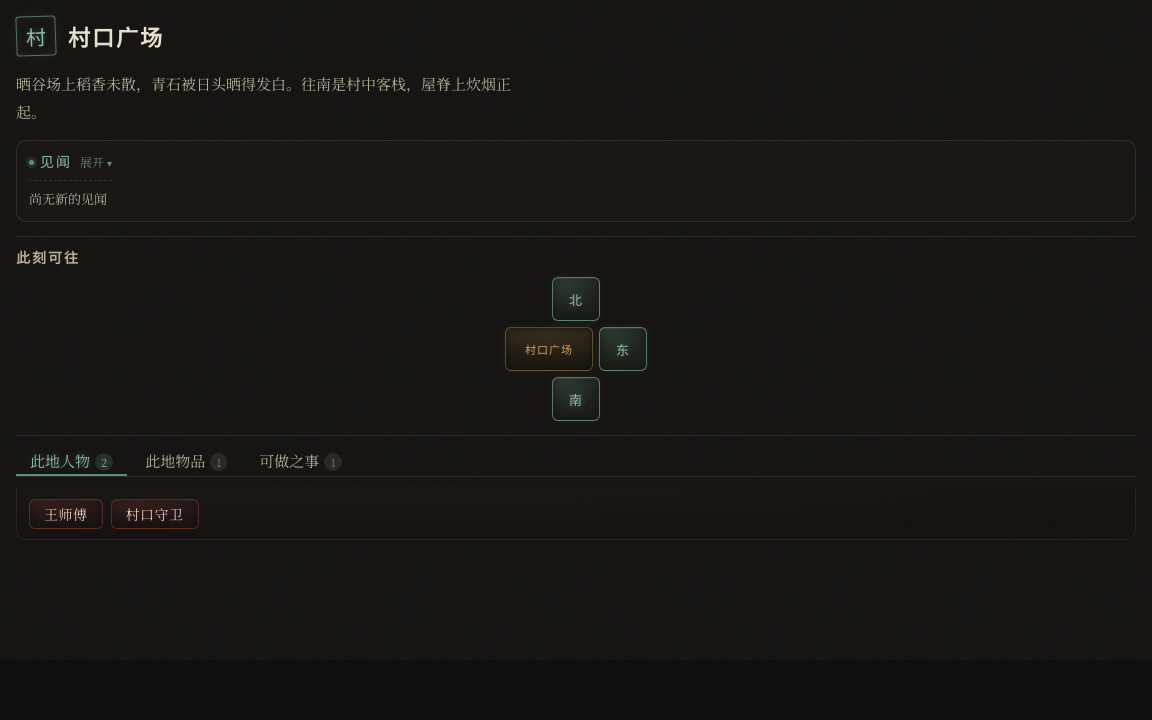
SceneView（叙事优先 + 见闻动态流 + 交互 Tab） › 人物/物品/动作以页签呈现：选中页签高亮、内容在面板内
Expected: the tab "此地人物2" is shown, [16,446,127,476]
Expected: the element with class "tab-panel" shows "王师傅", [29,499,102,529]
Click the tab "此地物品1".
click(186, 461)  # box [131,446,241,476]
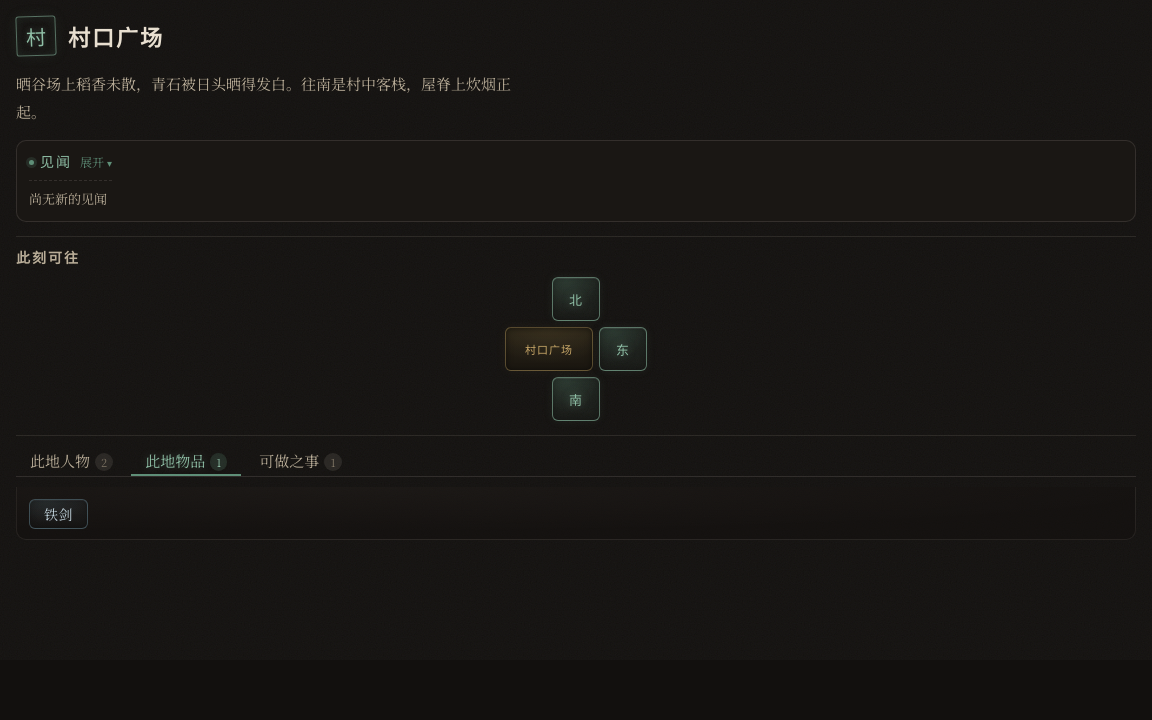
Now the element with class "tab-panel" reads "铁剑", box [29,499,88,529]
